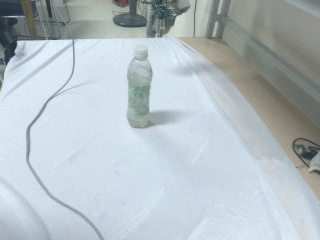bottle: (126, 42, 153, 129)
